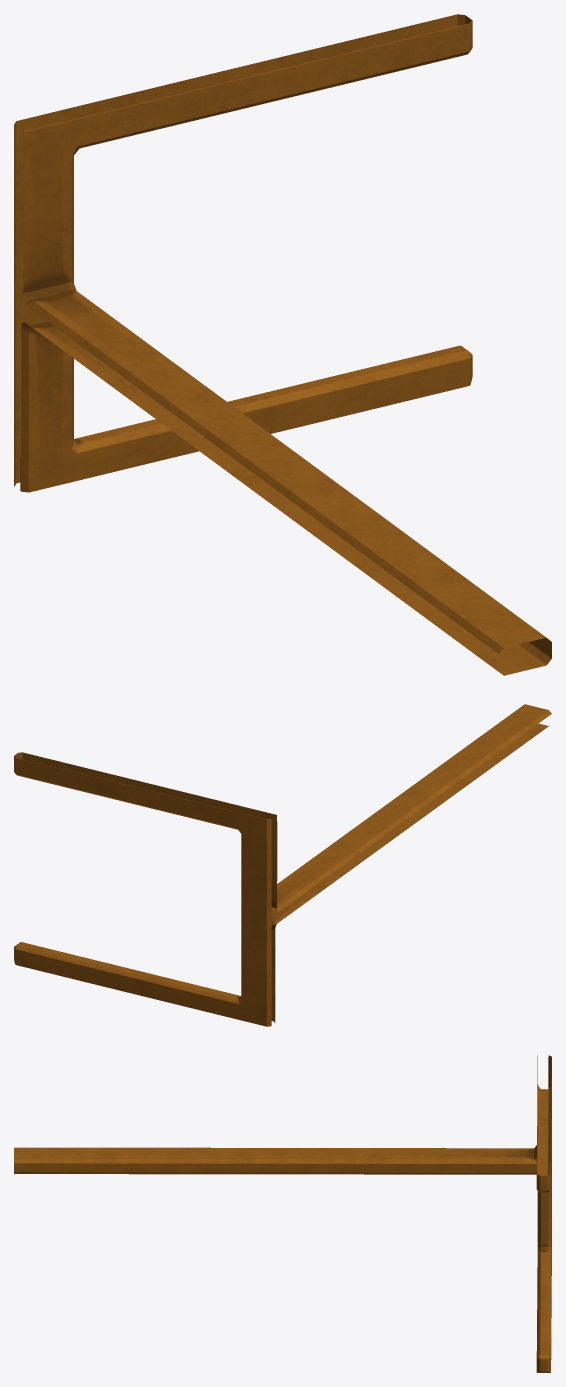
Rendered from bed_back.obj.
3 renders of one model, top to bottom at view 1: azimuth 30°, elevation 25°; view 2: azimuth 150°, elevation 25°; view 3: azimuth 270°, elevation 25°, orthographic. The views are drawn at different scales.
Visible parts, largest first — view 1: Box205; view 2: Box205; view 3: Box205.
Part boxes in pixels (x1=…): Box205: x1=14, y1=14, x2=551, y2=675; Box205: x1=14, y1=704, x2=551, y2=1026; Box205: x1=14, y1=1055, x2=551, y2=1372.
Size of the model in its own units: 1.7 by 1.3 by 3.19.
Materials: 1 (1 with a texture image).
